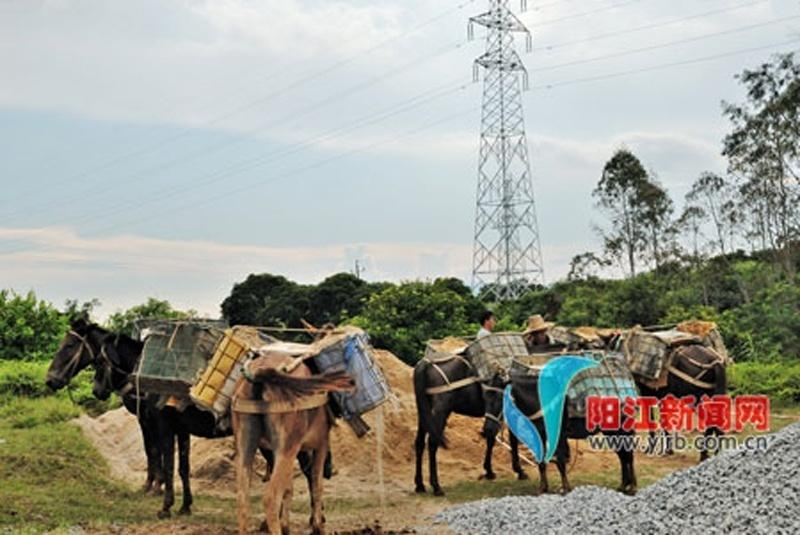power_tower: (445, 2, 562, 289)
